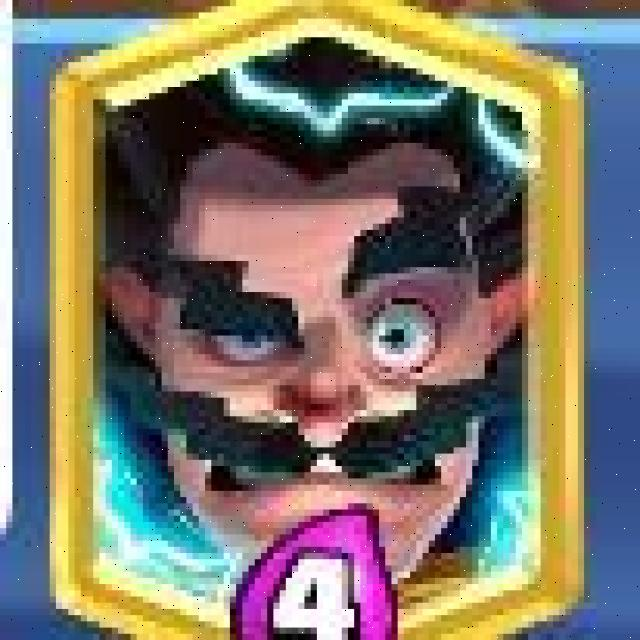Electro_Wizard: (49, 5, 581, 640)
